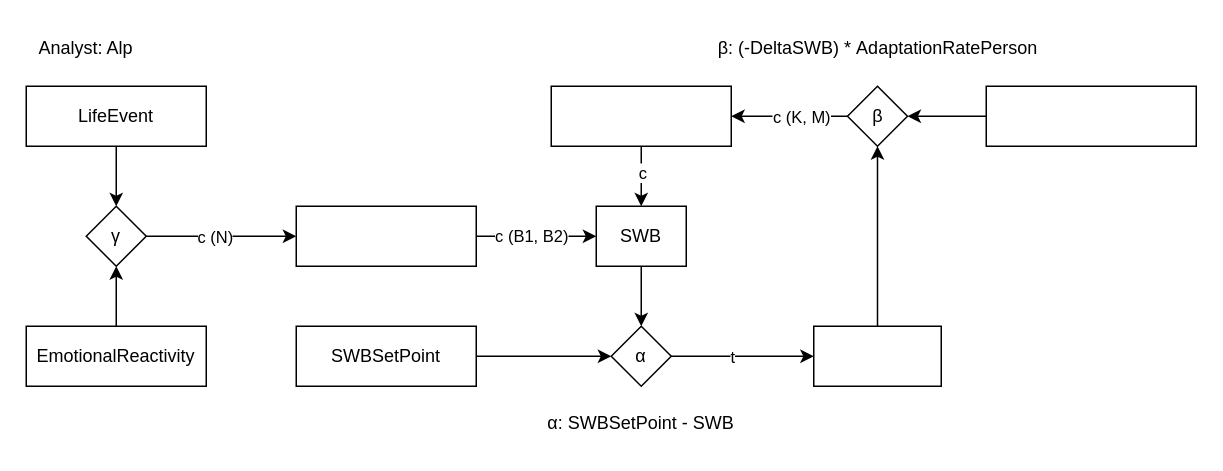
The diagram is 1223 pixels wide and 471 high, and some of its shapes have lost their labels. The shapes that lost their labels are listed below. From the top down, each one's centre as x and y in pixels, then its label:
the point at 640,115: AdaptationRate
the point at 1090,115: AdaptationRatePerson
the point at 385,235: InitialReaction
the point at 876,355: DeltaSWB
